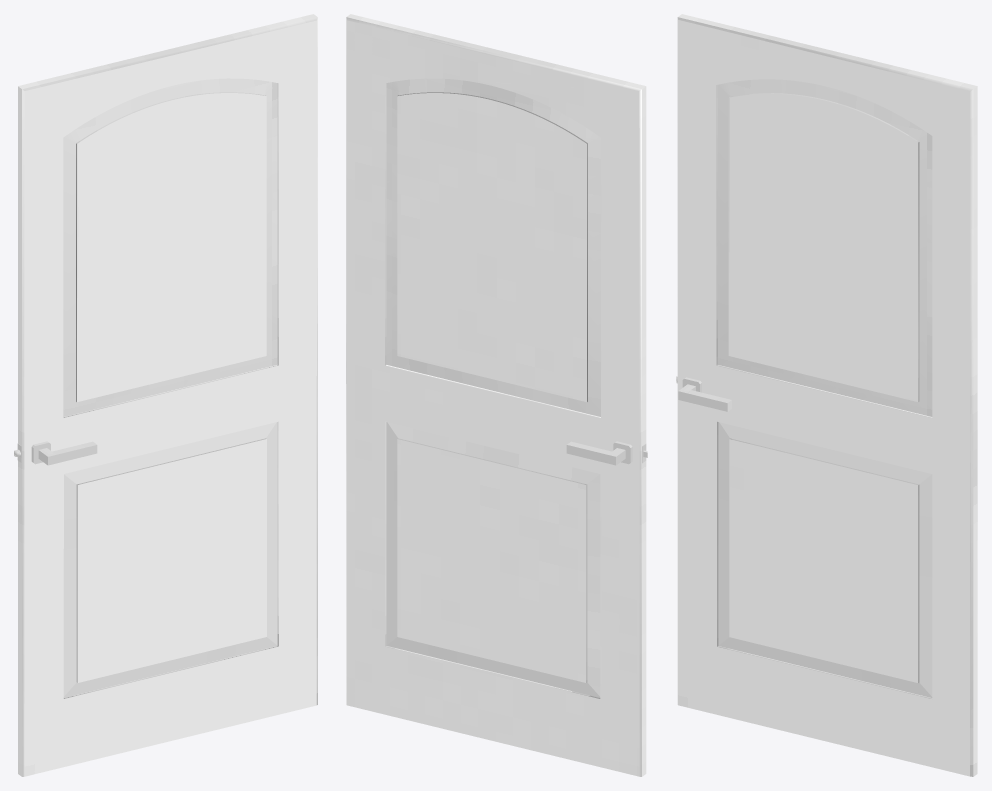
File: DoorRomanPanel.glb
3 renders of one model, left to right at view 1: azimuth 30°, elevation 25°; view 2: azimuth 150°, elevation 25°; view 3: azimuth 330°, elevation 25°, orthographic.
Visible parts, largest first — view 1: DoorRomanPanel; view 2: DoorRomanPanel; view 3: DoorRomanPanel.
Part boxes in pixels (left/top/right/bottom): DoorRomanPanel: left=14, top=14, right=317, bottom=776; DoorRomanPanel: left=346, top=14, right=647, bottom=776; DoorRomanPanel: left=676, top=14, right=977, bottom=776.
Bounding box in the file's own units: 0.9286 × 2.03 × 0.1584.
1 material, 1 textured.
